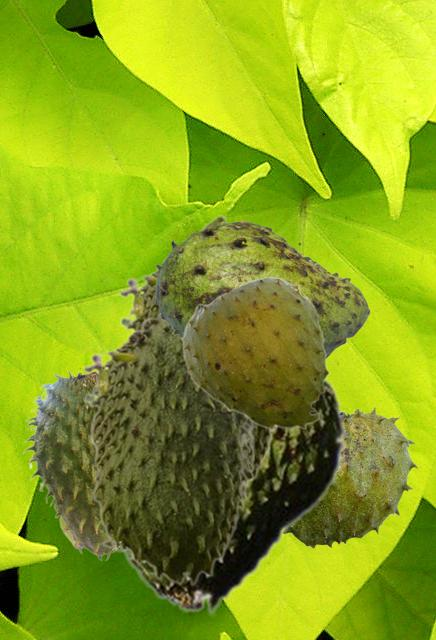guyabano: (121, 377, 346, 616), (83, 310, 257, 585), (119, 214, 278, 492), (153, 220, 369, 358), (179, 276, 329, 432), (285, 406, 417, 547), (22, 370, 114, 560)
